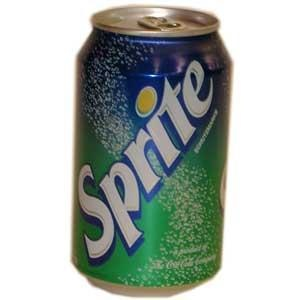grozi_55: (69, 3, 234, 300)
